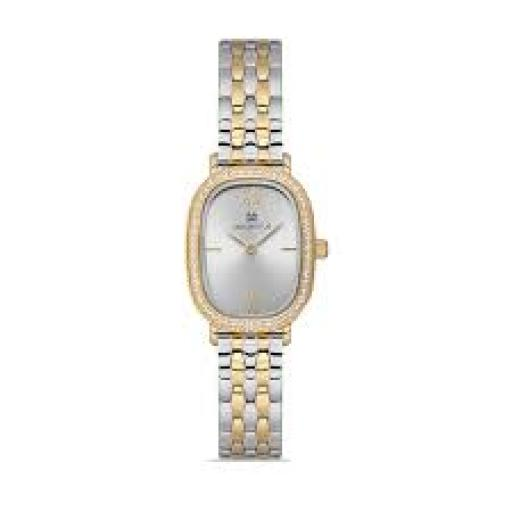KolSaati: (142, 21, 384, 484)
